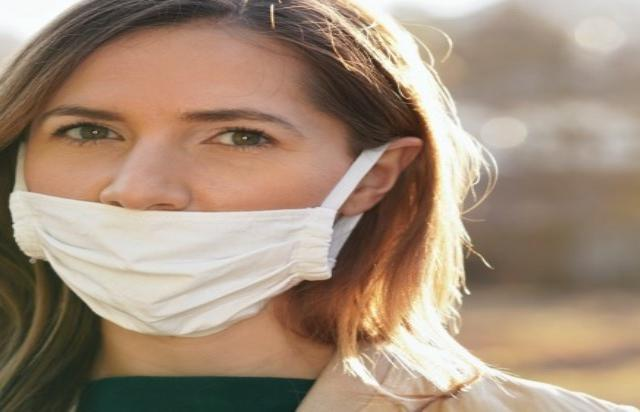mask_weared_incorrect: (6, 1, 463, 341)
